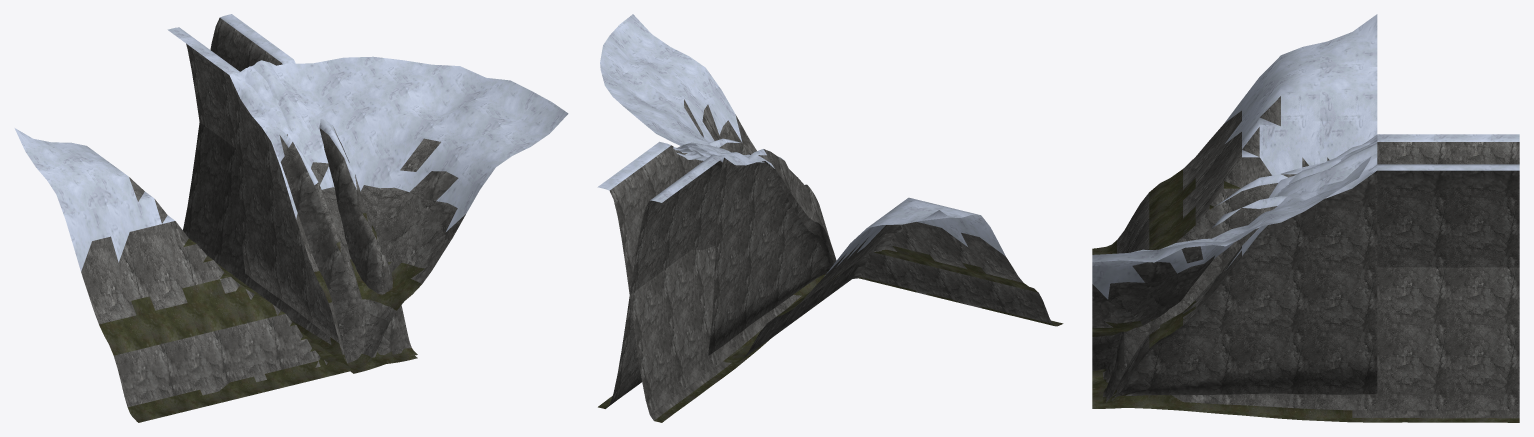
Rendered from bk_mountain_summer.glb.
3 views of the same model, side by side, from view 1: azimuth 30°, elevation 25°; view 2: azimuth 150°, elevation 25°; view 3: azimuth 270°, elevation 25° (orthographic). The views are drawn at different scales.
Visible parts, largest first — view 1: corner_inner, corner_outer, endcap_sea_to_land, pass12, endcap_land_to_sea, straight12_a, straight12_c, straight6, straight12_b; view 2: endcap_sea_to_land, corner_inner, pass12, corner_outer, endcap_land_to_sea; view 3: endcap_land_to_sea, pass12, corner_inner, endcap_sea_to_land, corner_outer, straight12_a, straight12_b, straight12_c.
Part boxes in pixels (left/top/right/bottom): corner_inner: left=14, top=128, right=353, bottom=422; corner_outer: left=238, top=56, right=568, bottom=370; endcap_sea_to_land: left=183, top=14, right=412, bottom=373; pass12: left=229, top=76, right=417, bottom=369; endcap_land_to_sea: left=167, top=27, right=417, bottom=366; straight12_a: left=239, top=60, right=416, bottom=368; straight12_c: left=244, top=62, right=322, bottom=149; straight6: left=229, top=73, right=337, bottom=331; straight12_b: left=234, top=72, right=396, bottom=360; endcap_sea_to_land: left=597, top=138, right=825, bottom=422; corner_inner: left=724, top=197, right=1063, bottom=362; pass12: left=708, top=157, right=833, bottom=355; corner_outer: left=600, top=14, right=756, bottom=162; endcap_land_to_sea: left=598, top=149, right=836, bottom=408; endcap_land_to_sea: left=1092, top=134, right=1519, bottom=422; pass12: left=1092, top=171, right=1377, bottom=405; corner_inner: left=1092, top=14, right=1377, bottom=254; endcap_sea_to_land: left=1103, top=164, right=1519, bottom=403; corner_outer: left=1092, top=139, right=1376, bottom=373; straight12_a: left=1093, top=140, right=1377, bottom=404; straight12_b: left=1103, top=136, right=1377, bottom=393; straight12_c: left=1111, top=141, right=1377, bottom=398.
Size of the model in its own units: 80 by 40.34 by 60.
Materials: 3 (3 with a texture image).
